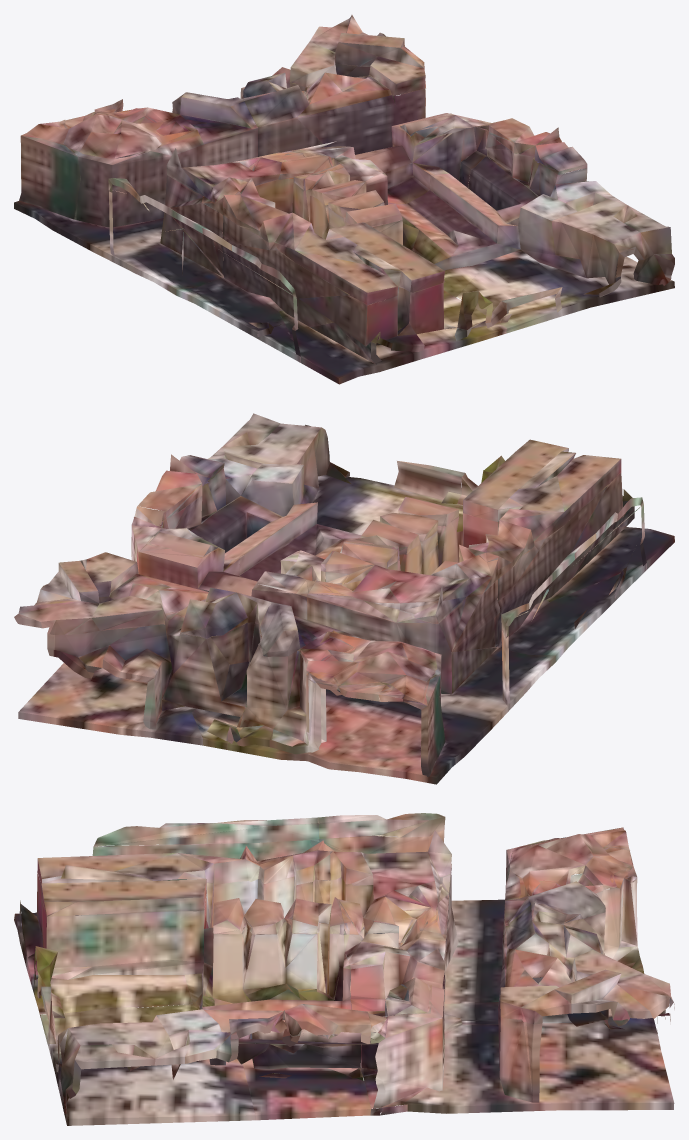
3 renders of one model, top to bottom at view 1: azimuth 30°, elevation 25°; view 2: azimuth 150°, elevation 25°; view 3: azimuth 270°, elevation 25°, orthographic. The views are drawn at different scales.
Visible parts, largest first — view 1: Mesh_0; view 2: Mesh_0; view 3: Mesh_0.
Boxes of the visible parts, <box> form: Mesh_0: <box>14,15,674,384</box>; Mesh_0: <box>14,413,674,784</box>; Mesh_0: <box>14,813,674,1125</box>.
Bounding box in the file's own units: 133 × 34.91 × 165.
1 material, 1 textured.
